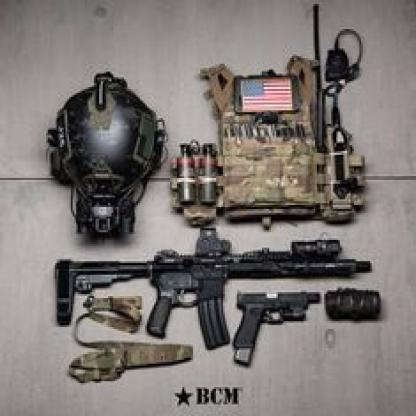Grenade: (172, 141, 198, 204), (198, 141, 221, 204)
Gun: (54, 226, 373, 352)
Pistol: (231, 288, 323, 369)
